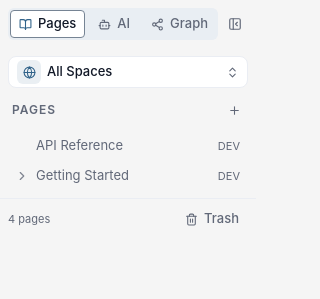
Test case: SidebarTreeView › expands node on chevron click to reveal children
This screenshot has width=320, height=299.
Click the button named "Expand".
click(22, 176)  # box [10,164,34,188]
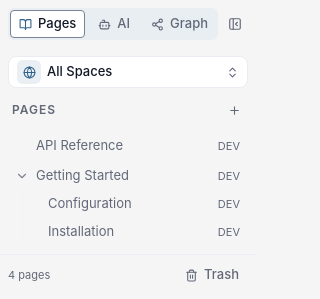
Expected: the text "Installation" is shown, [48,223,114,239]
Expected: the text "Configuration" is shown, [48,195,132,211]
